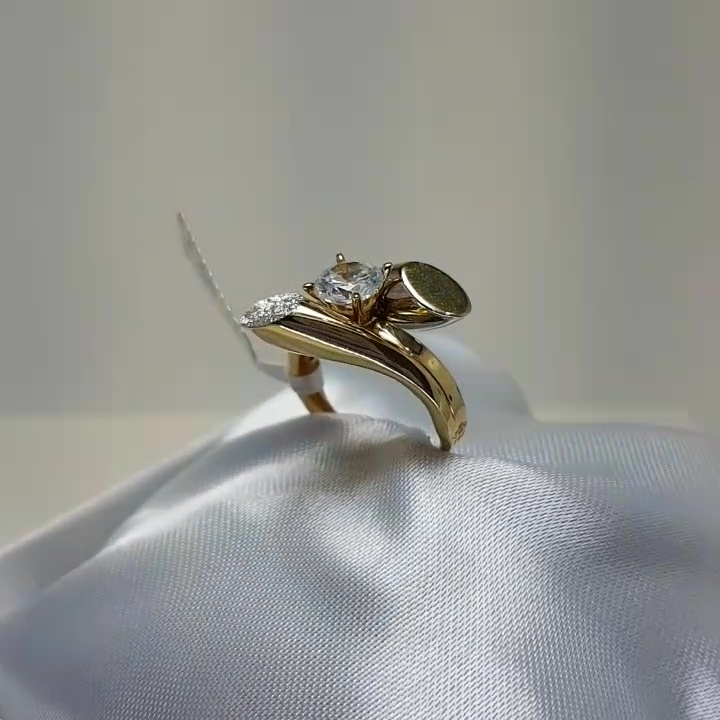Ring 7: (227, 232, 488, 478)
